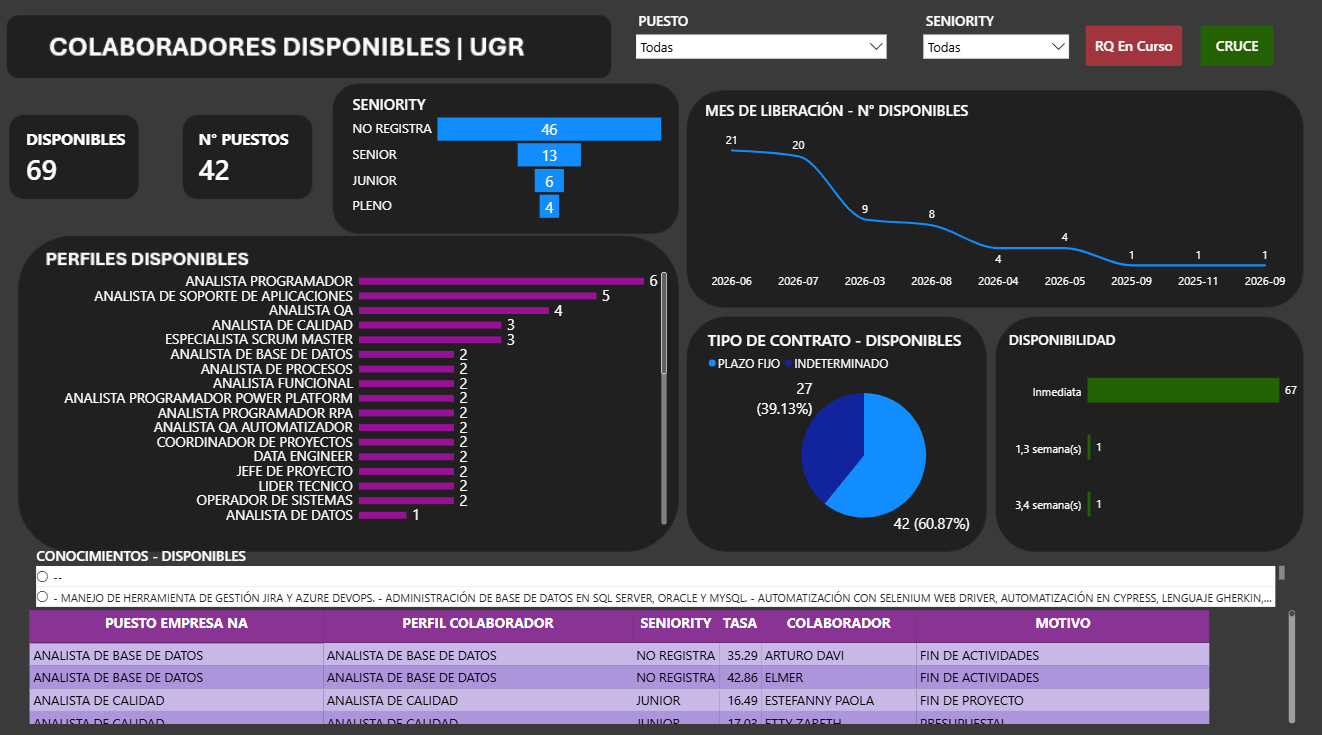

Layout of this report page (visuals, bound fields, positions):
{"tool":"powerbi","page":{"name":"UGR","canvas":[1920,1080],"ordinal":1},"visuals":[{"type":"slicer","fields":{"Values":["Disponibilidad.PUESTO"]},"box":[917.6,25.4,372.5,79.5],"z":0},{"type":"cardVisual","title":"Total Vacantes \"En Curso\"","fields":{"Data":["CountNonNull(Disponibilidad.NOMBRE EMPLEADO)"]},"box":[27.3,174.9,220.3,122.7],"z":1000},{"type":"cardVisual","title":"Total Vacantes \"En Curso\"","fields":{"Data":["Count(Disponibilidad.PUESTO)"]},"box":[277.1,174.9,211.2,122.7],"z":2000},{"type":"slicer","fields":{"Values":["Disponibilidad.SENIORITY - PUESTO"]},"box":[1333.3,25.4,220.3,79.5],"z":3000},{"type":"clusteredBarChart","title":"PERFILES","fields":{"Category":["Disponibilidad.PUESTO"],"Y":["CountNonNull(Disponibilidad.NOMBRE EMPLEADO)"]},"box":[38.6,379.3,944.9,404.3],"z":4000},{"type":"tableEx","fields":{"Values":["Disponibilidad.PUESTO","Disponibilidad.PERFIL","Disponibilidad.SENIORITY - PUESTO","Sum(Disponibilidad.TASA)","Disponibilidad.NOMBRE EMPLEADO","Disponibilidad.MOTIVO"]},"box":[26.4,877.9,1865.4,194.6],"z":5000},{"type":"funnel","title":"SENIORITY","fields":{"Category":["Disponibilidad.SENIORITY - PUESTO"],"Y":["CountNonNull(Disponibilidad.NOMBRE EMPLEADO)"]},"box":[495.1,129.5,483.8,213.5],"z":6000},{"type":"listSlicer","title":"CONOCIMIENTOS - DISPONIBLES","fields":{"Values":["Disponibilidad.CONOCIMIENTOS"]},"box":[38.5,784.7,1839,117.6],"z":7000},{"type":"pieChart","title":"TIPO DE CONTRATO - DISPONIBLES","fields":{"Category":["Disponibilidad.TIPO DE CONTRATO"],"Y":["CountNonNull(Disponibilidad.NOMBRE EMPLEADO)"]},"box":[1009.7,470.4,484.6,330.5],"z":8000},{"type":"lineChart","title":"MES DE LIBERACIÓN - N° DISPONIBLES","fields":{"Y2":["CountNonNull(Disponibilidad.NOMBRE EMPLEADO)"],"Category":["Disponibilidad.AÑO-MES"]},"box":[1006.2,138.5,881.3,308.9],"z":9000},{"type":"barChart","title":"DISPONIBILIDAD","fields":{"Category":["Disponibilidad.Estado Disponibilidad"],"Y":["CountNonNull(Disponibilidad.Estado Disponibilidad)"]},"box":[1446.8,472.4,449.7,338.4],"z":10000},{"type":"actionButton","box":[1571.7,45.4,140.8,59.1],"z":11000},{"type":"actionButton","box":[1739.8,45.4,106.8,59.1],"z":12000}]}

Visuals, with their boxes in screenshot pixels (x1, y1, x2, y2), scaled from the page's 1920x1080 canvas onto the 1322x735 screenshot:
slicer - Disponibilidad.PUESTO: 632 17 888 71
"Total Vacantes "En Curso"" cardVisual: 19 119 170 203
"Total Vacantes "En Curso"" cardVisual: 191 119 336 203
slicer - Disponibilidad.SENIORITY - PUESTO: 918 17 1070 71
"PERFILES" clusteredBarChart: 27 258 677 533
tableEx - Disponibilidad.PUESTO x Disponibilidad.PERFIL: 18 597 1303 730
"SENIORITY" funnel: 341 88 674 233
"CONOCIMIENTOS - DISPONIBLES" listSlicer: 27 534 1293 614
"TIPO DE CONTRATO - DISPONIBLES" pieChart: 695 320 1029 545
"MES DE LIBERACIÓN - N° DISPONIBLES" lineChart: 693 94 1300 304
"DISPONIBILIDAD" barChart: 996 321 1306 552
actionButton: 1082 31 1179 71
actionButton: 1198 31 1271 71
